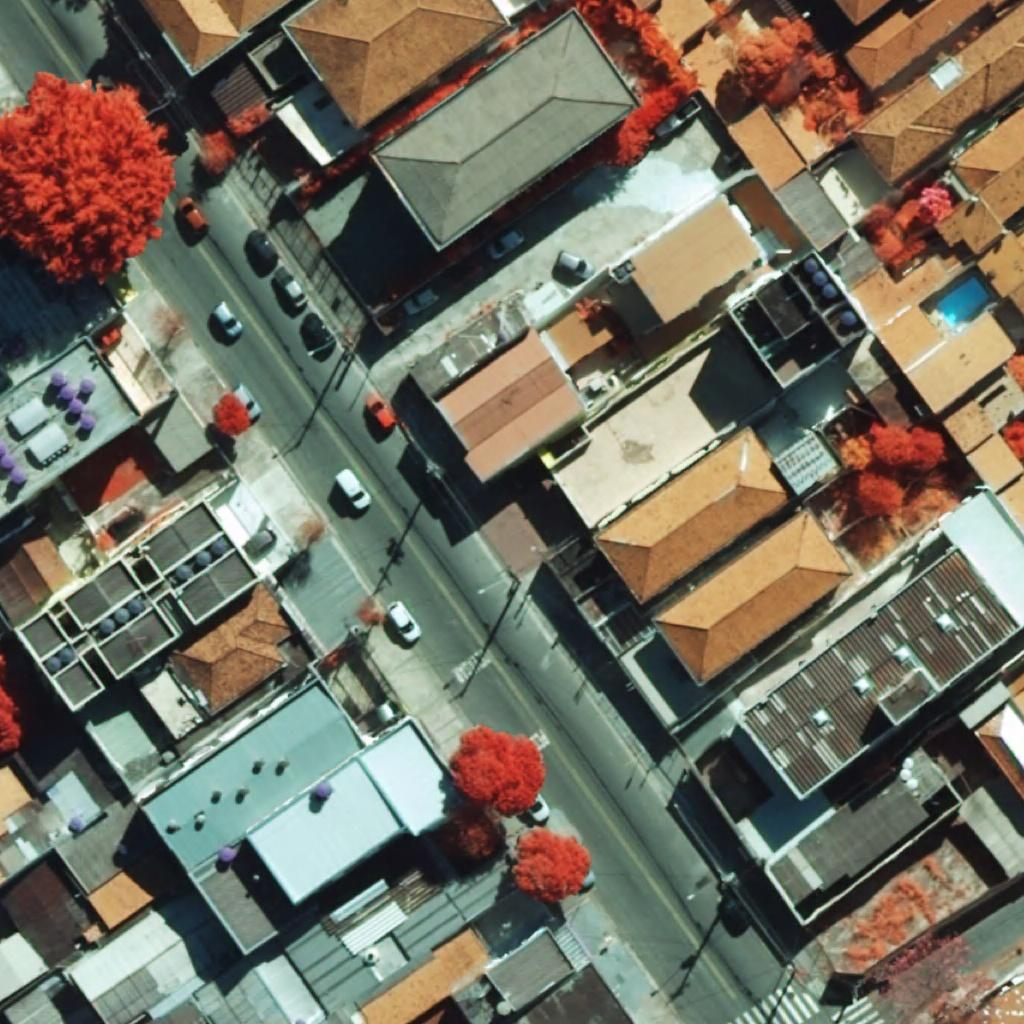pool: (934, 275, 991, 328)
